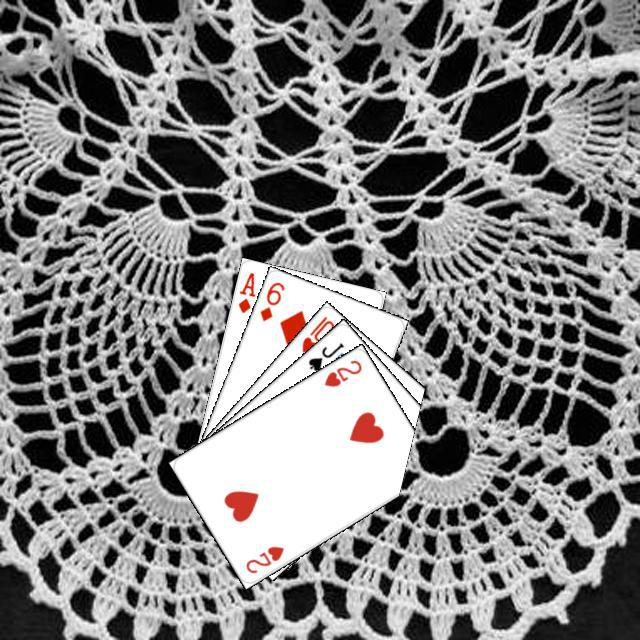10h: (297, 311, 336, 354)
2h: (319, 355, 364, 389), (241, 541, 286, 575)
6d: (255, 277, 286, 323)
Ad: (233, 267, 257, 315)
Js: (303, 338, 345, 373)
